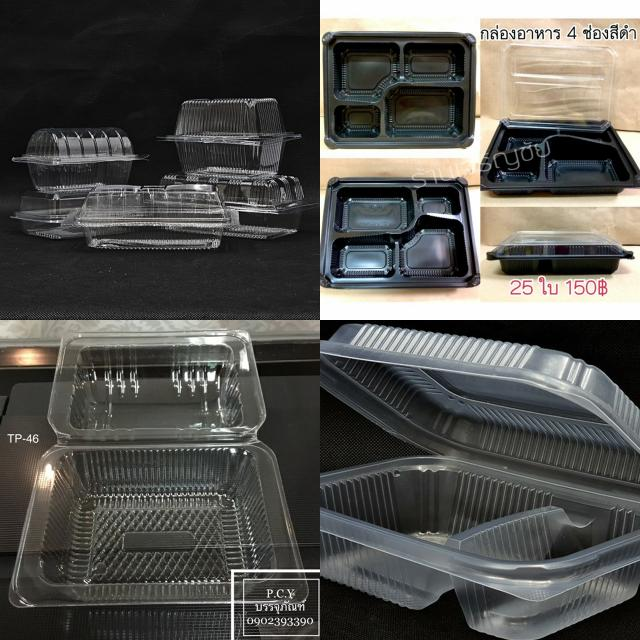Single-Use-Plastic: (321, 325, 640, 640), (10, 441, 302, 606), (48, 330, 265, 442), (322, 31, 475, 149), (321, 178, 480, 288), (481, 119, 640, 195), (162, 98, 300, 175), (161, 172, 314, 239), (76, 185, 229, 248), (12, 128, 148, 192), (501, 44, 614, 119), (488, 231, 634, 275), (11, 190, 88, 239)
